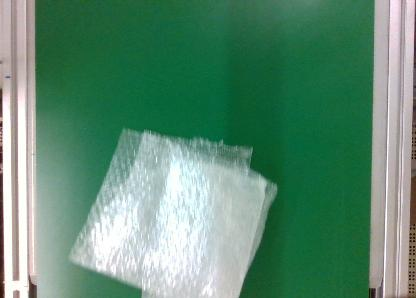Others: (72, 122, 278, 296)
